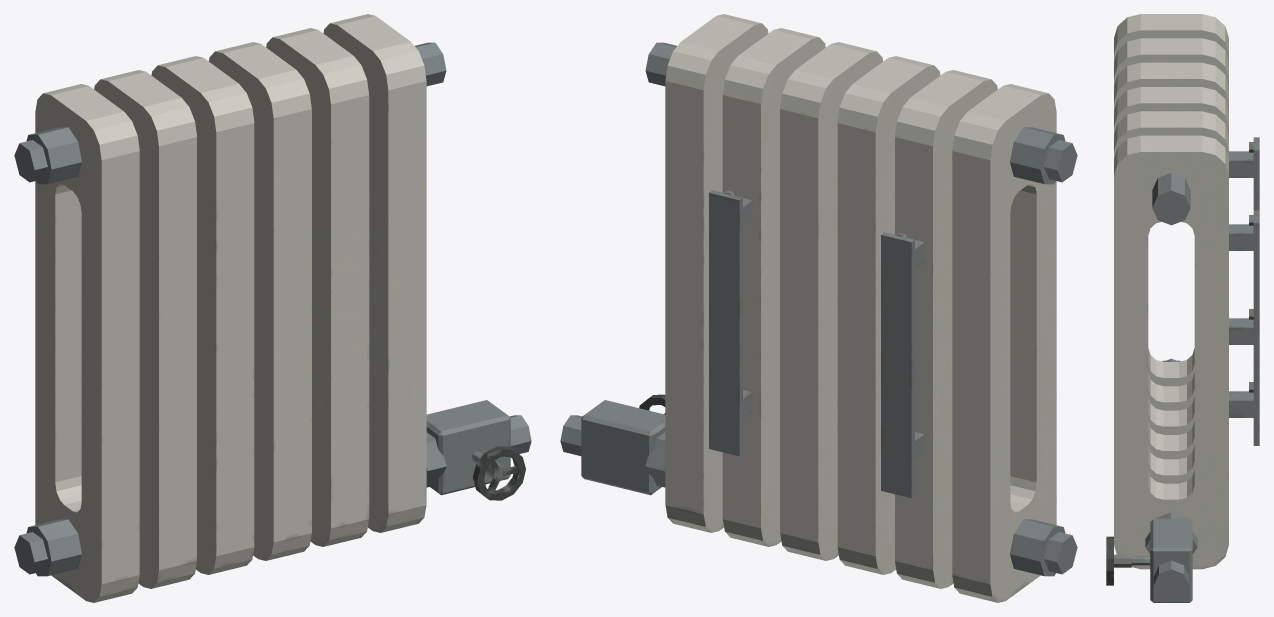
The model's file is apartment_radiator_small.glb.
3 renders of one model, left to right at view 1: azimuth 30°, elevation 25°; view 2: azimuth 150°, elevation 25°; view 3: azimuth 270°, elevation 25°, orthographic. The views are drawn at different scales.
Visible parts, largest first — view 1: RadiatorSmall; view 2: RadiatorSmall; view 3: RadiatorSmall.
Boxes of the visible parts, left/top/right/bottom form: RadiatorSmall: left=14, top=14, right=531, bottom=602; RadiatorSmall: left=560, top=14, right=1077, bottom=602; RadiatorSmall: left=1106, top=14, right=1259, bottom=602.
Bounding box in the file's own units: 0.65 × 0.6 × 0.2.
Materials: 1 (1 with a texture image).
